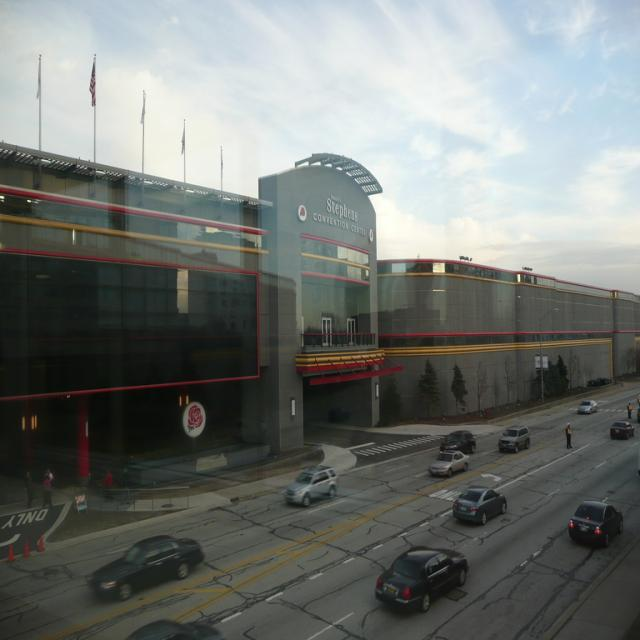car: (90, 537, 205, 599), (377, 546, 472, 609), (567, 497, 626, 544), (286, 464, 340, 507), (126, 619, 225, 639), (451, 487, 508, 521), (430, 449, 471, 478), (497, 426, 532, 452), (610, 421, 639, 440), (578, 401, 599, 413)
